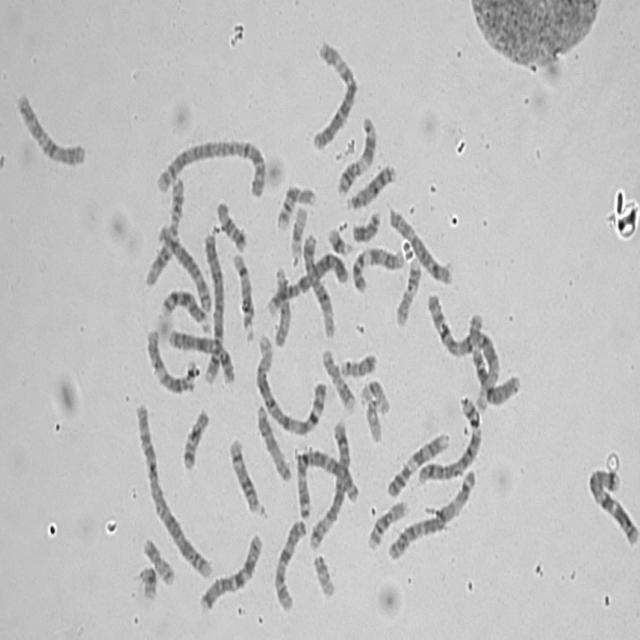A1: (422, 286, 523, 408), (251, 327, 329, 438)
A2: (130, 397, 214, 581), (150, 131, 268, 199)
A3: (384, 462, 478, 563), (292, 441, 360, 521)
B4: (263, 248, 350, 318), (197, 225, 226, 385)
B5: (305, 416, 352, 552), (415, 392, 482, 486)
C10: (12, 86, 88, 169), (270, 513, 309, 614)
C11: (140, 169, 186, 288), (332, 109, 378, 198)
C12: (299, 229, 337, 339), (142, 322, 196, 396)
C6: (308, 34, 360, 152), (465, 308, 521, 408)
C7: (195, 527, 264, 615), (583, 460, 639, 548)
C8: (385, 200, 454, 288), (154, 217, 212, 314)
C9: (383, 426, 451, 500), (348, 239, 407, 294)
D13: (343, 157, 397, 211), (158, 283, 211, 334)
D14: (225, 431, 265, 518), (228, 245, 256, 342)
D15: (252, 398, 293, 483), (270, 261, 292, 349)
E16: (364, 494, 410, 552), (273, 179, 317, 232)
E17: (318, 342, 357, 413), (391, 251, 423, 328)
E18: (178, 403, 210, 472), (212, 194, 248, 253)
F19: (356, 373, 392, 416), (286, 200, 309, 262)
F20: (138, 531, 176, 586), (336, 346, 378, 379)
G21: (324, 220, 354, 257), (135, 560, 158, 602)
G22: (309, 548, 336, 600), (365, 400, 386, 450)
X: (164, 324, 236, 386)
Y: (348, 205, 382, 243)
